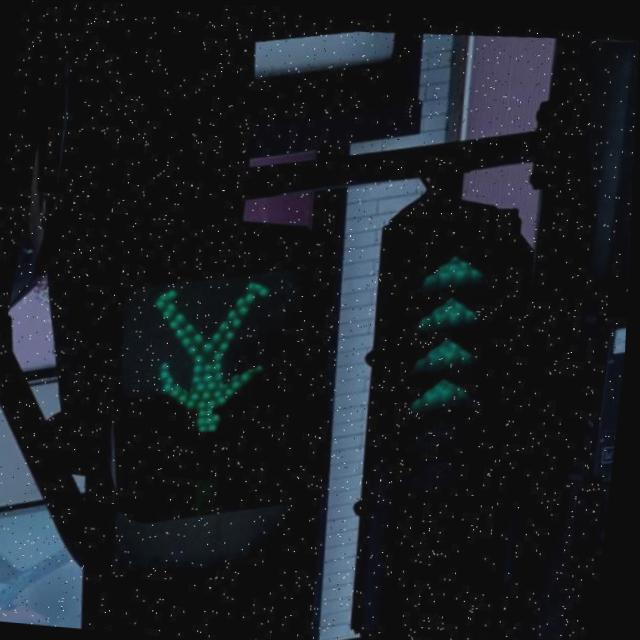green_light: (104, 241, 310, 457)
